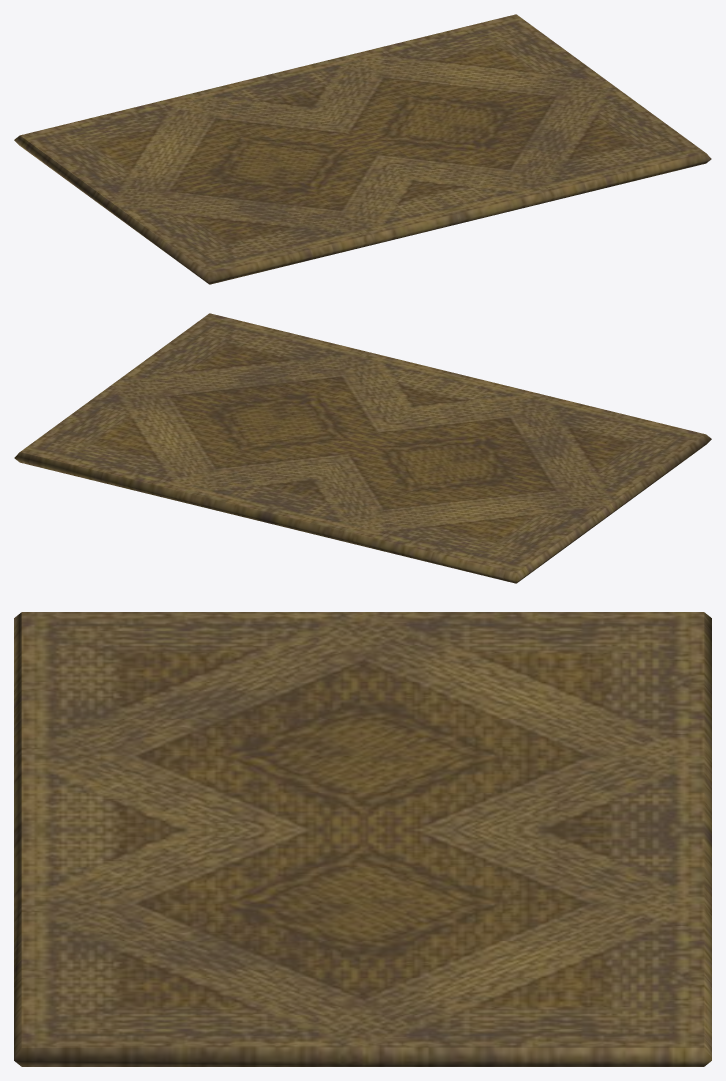
The model's file is comfort_t1_floor_plantfibre_big.glb.
The picture shows the model from 3 angles, top to bottom: view 1: azimuth 30°, elevation 25°; view 2: azimuth 150°, elevation 25°; view 3: azimuth 270°, elevation 25°; orthographic projection. The views are drawn at different scales.
Visible parts, largest first — view 1: straw_carpet_02; view 2: straw_carpet_02; view 3: straw_carpet_02.
Boxes of the visible parts, <box> form: straw_carpet_02: <box>14,14,711,284</box>; straw_carpet_02: <box>14,313,711,583</box>; straw_carpet_02: <box>14,612,711,1066</box>.
Size of the model in its own units: 3 by 0.0601 by 2.
1 material, 1 textured.
